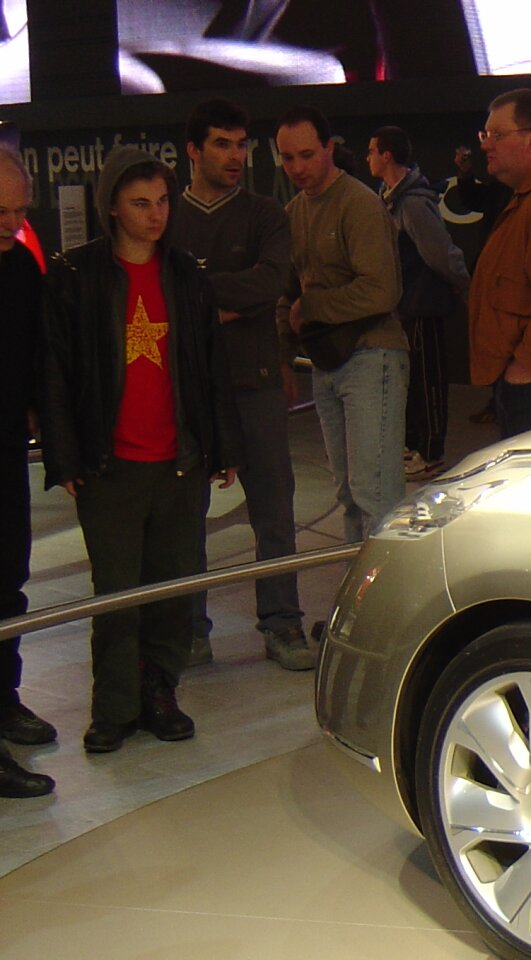person: (40, 145, 237, 756), (262, 110, 403, 504), (446, 92, 531, 420)
